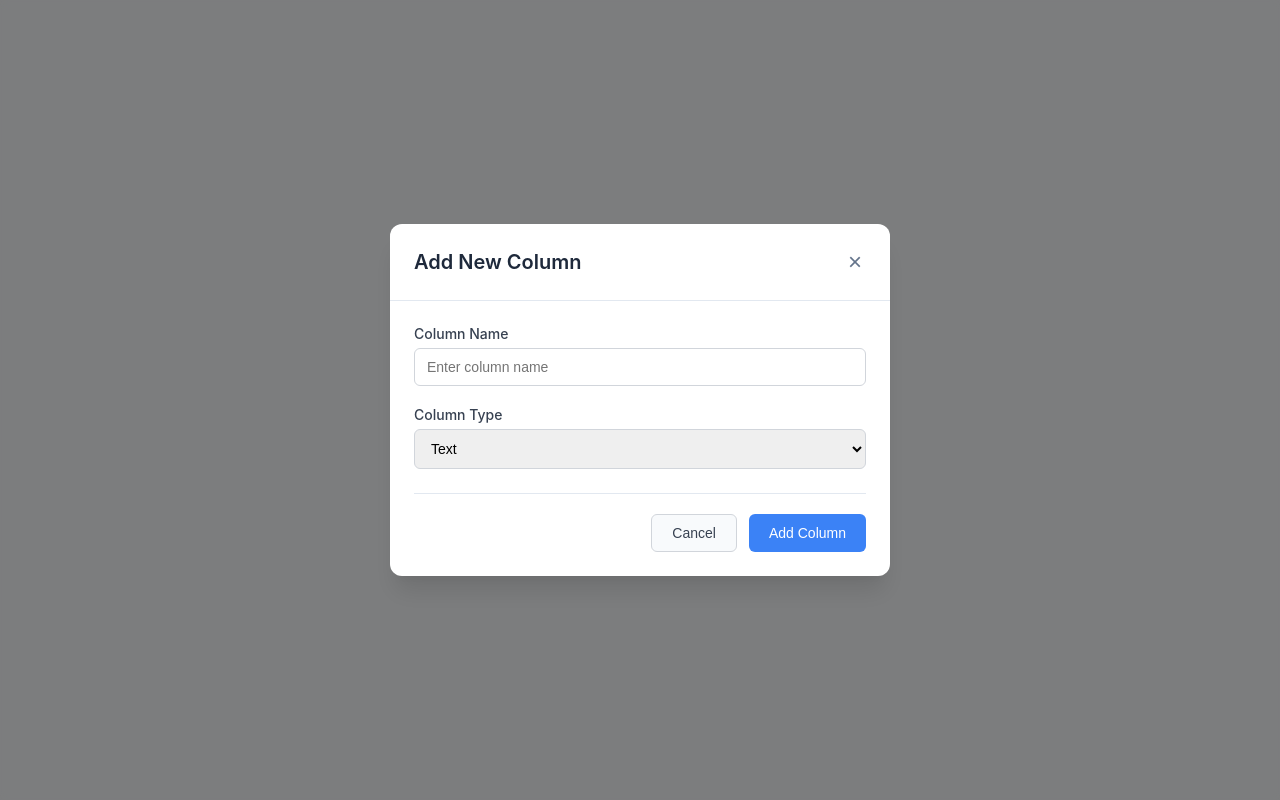
ColumnAddModal Component › Column Type Selection › should show options section for select types
This screenshot has width=1280, height=800.
Select "Single Select" in the dropdown labelled "Column Type" at (640, 449), box [414,429,866,469]
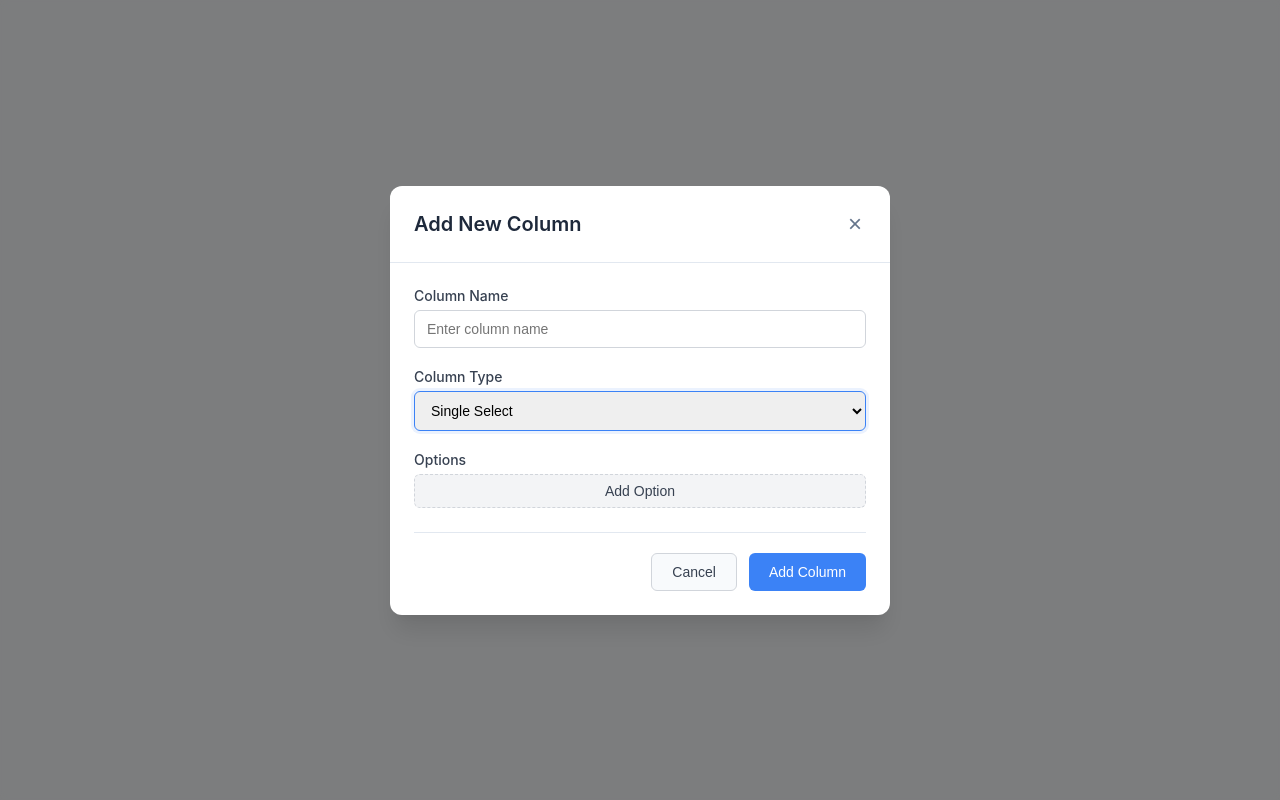
Expected: the text "Options" is shown, [414,450,466,468]
Expected: the button "Add Option" is shown, [414,474,866,508]
